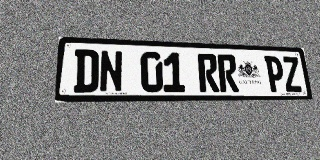0: (140, 51, 163, 92)
1: (162, 52, 185, 92)
D: (73, 49, 99, 93)
N: (99, 50, 123, 92)
P: (264, 56, 286, 92)
R: (197, 53, 219, 92), (217, 54, 239, 92)
Z: (281, 56, 303, 92)
